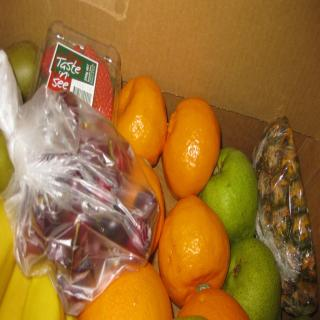Orange: (157, 197, 232, 308), (159, 101, 222, 200), (80, 262, 170, 320), (120, 73, 170, 165), (123, 160, 168, 250), (180, 294, 248, 320)
